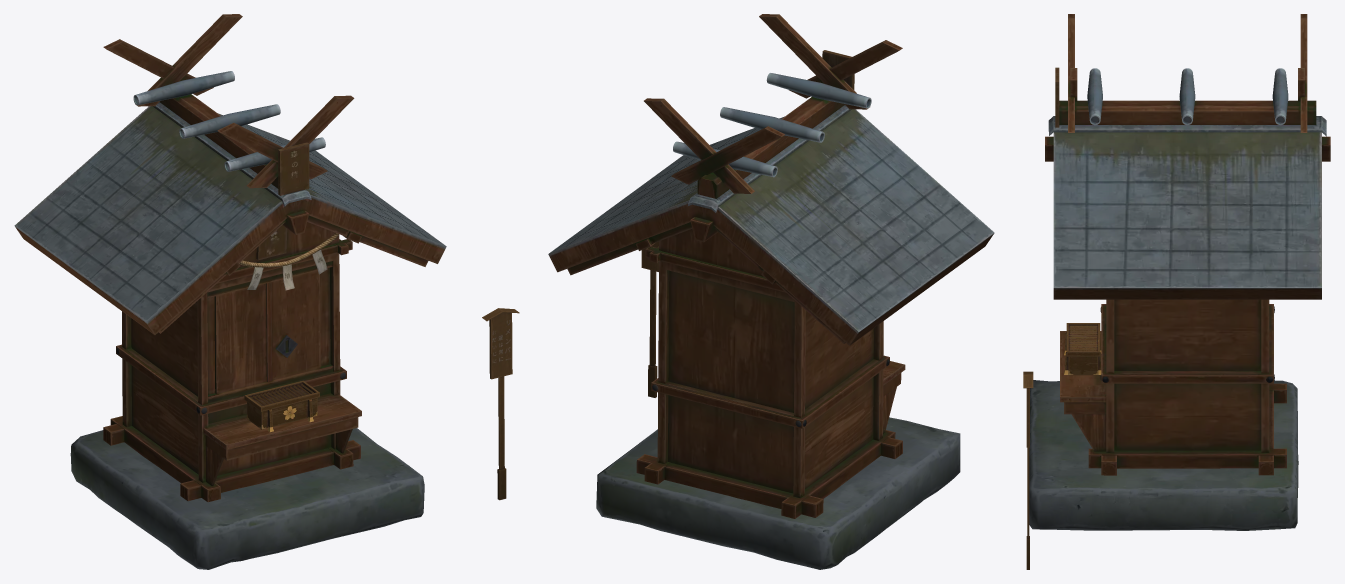
The model's file is altar.glb.
The picture shows the model from 3 angles, left to right: view 1: azimuth 30°, elevation 25°; view 2: azimuth 150°, elevation 25°; view 3: azimuth 270°, elevation 25°; orthographic projection. The views are drawn at different scales.
Size of the model in its own units: 3.15 by 3.55 by 2.29.
Materials: 4 (4 with a texture image).
